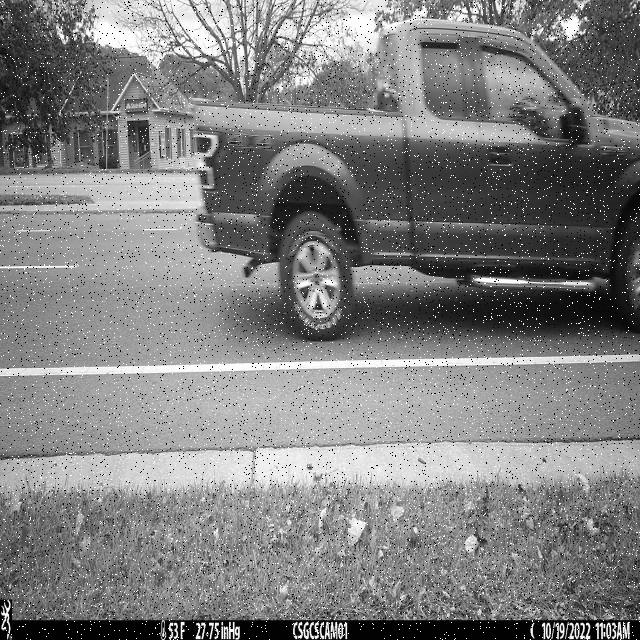Pickup: (192, 18, 640, 343)
